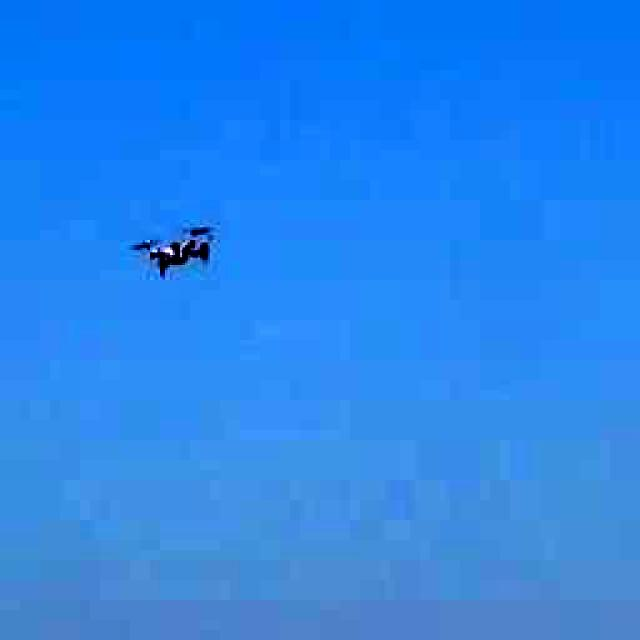bird: (134, 216, 224, 284)
